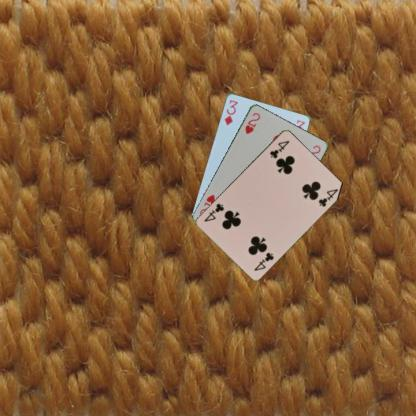2h: (242, 110, 261, 135)
3d: (222, 97, 239, 127)
4c: (267, 138, 291, 160), (251, 250, 275, 272)
